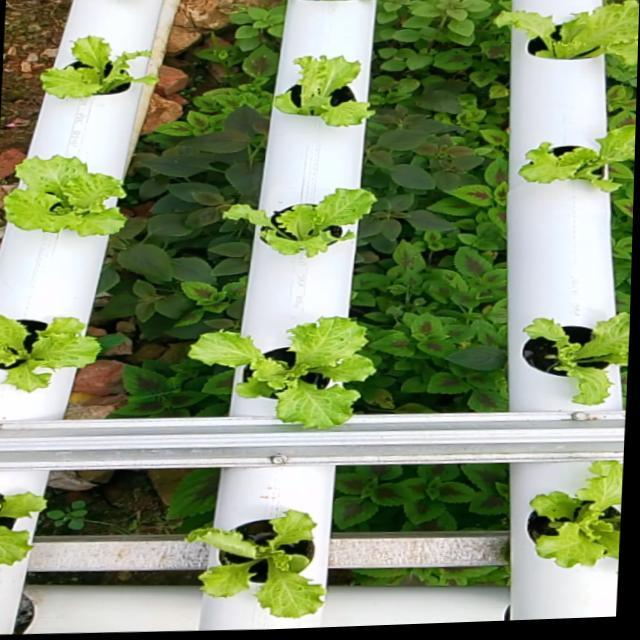Baby: (187, 316, 372, 425), (182, 506, 321, 613), (520, 459, 622, 576), (516, 309, 630, 404), (223, 189, 375, 257), (5, 155, 127, 236), (495, 4, 639, 69), (515, 125, 636, 194), (0, 312, 101, 389), (42, 37, 159, 99), (273, 58, 373, 128), (0, 487, 44, 560)
